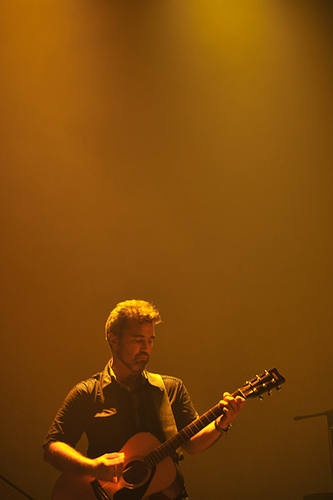guitar: (50, 376, 279, 500)
